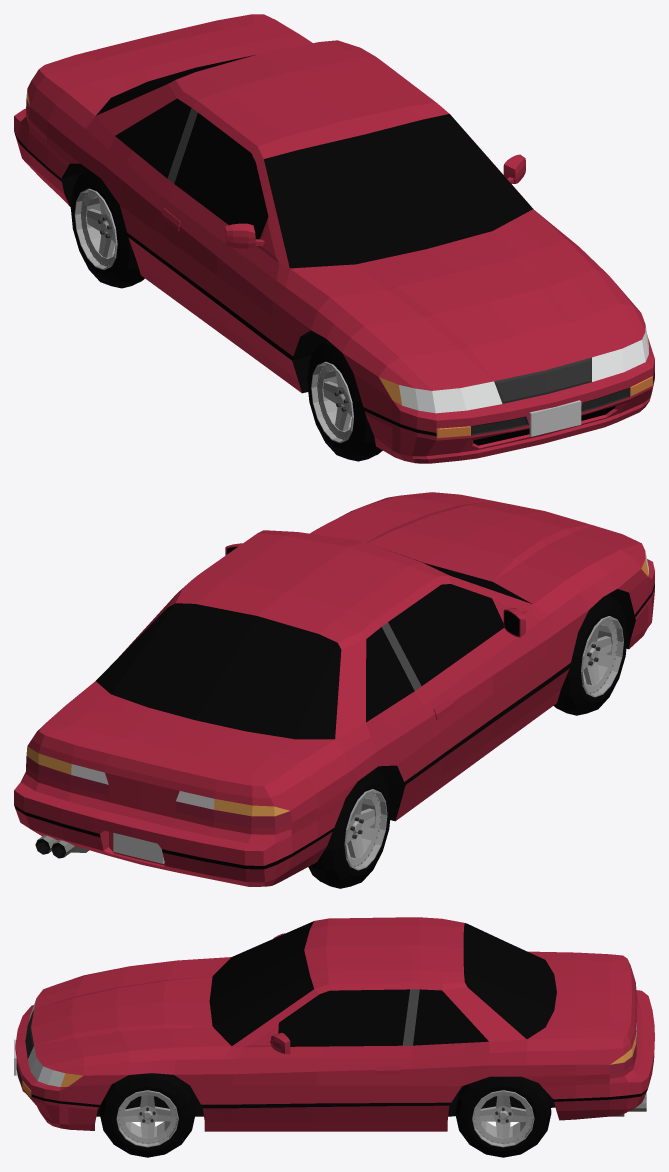
The picture shows the model from 3 angles, top to bottom: view 1: azimuth 30°, elevation 25°; view 2: azimuth 150°, elevation 25°; view 3: azimuth 270°, elevation 25°; orthographic projection. The views are drawn at different scales.
Visible parts, largest first — view 1: Plane, Cylinder, NumberPlates; view 2: Plane, Cylinder, NumberPlates, Cylinder.001; view 3: Plane, Cylinder.
Boxes of the visible parts, left/top/right/bottom form: Plane: left=14, top=14, right=654, bottom=463; Cylinder: left=70, top=168, right=382, bottom=461; NumberPlates: left=529, top=400, right=581, bottom=436; Plane: left=14, top=492, right=654, bottom=886; Cylinder: left=308, top=594, right=627, bottom=888; NumberPlates: left=113, top=833, right=164, bottom=863; Cylinder.001: left=35, top=835, right=88, bottom=858; Plane: left=15, top=917, right=654, bottom=1131; Cylinder: left=99, top=1073, right=551, bottom=1157.
Size of the model in its own units: 1.23 by 0.8735 by 3.03.
1 material, 1 textured.
